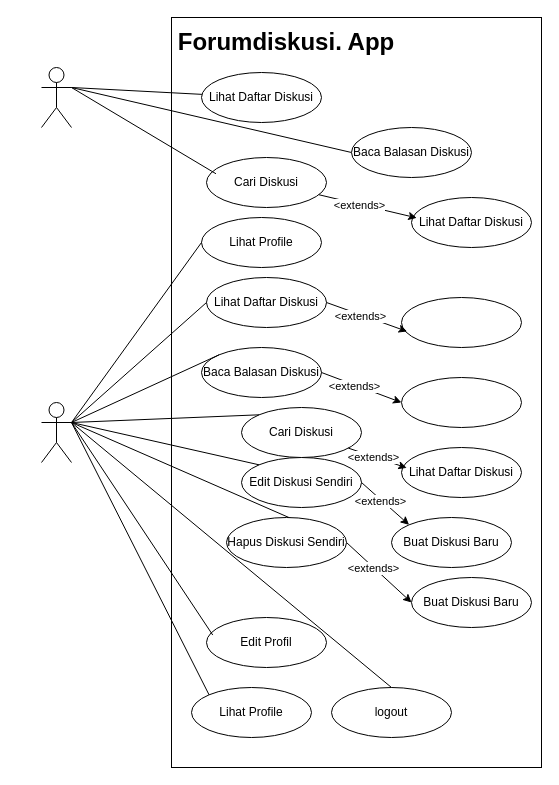
The diagram is 559 pixels wide and 785 high, and some of its shapes have lost their labels. The box of each missing label's shape, as (x1, y1, x2, y2) in pixels:
Balas Diskusi: (400, 296, 522, 348)
Guest: (40, 66, 72, 128)
Logged in user: (40, 402, 72, 462)
Naikkan balasan: (400, 376, 522, 428)
